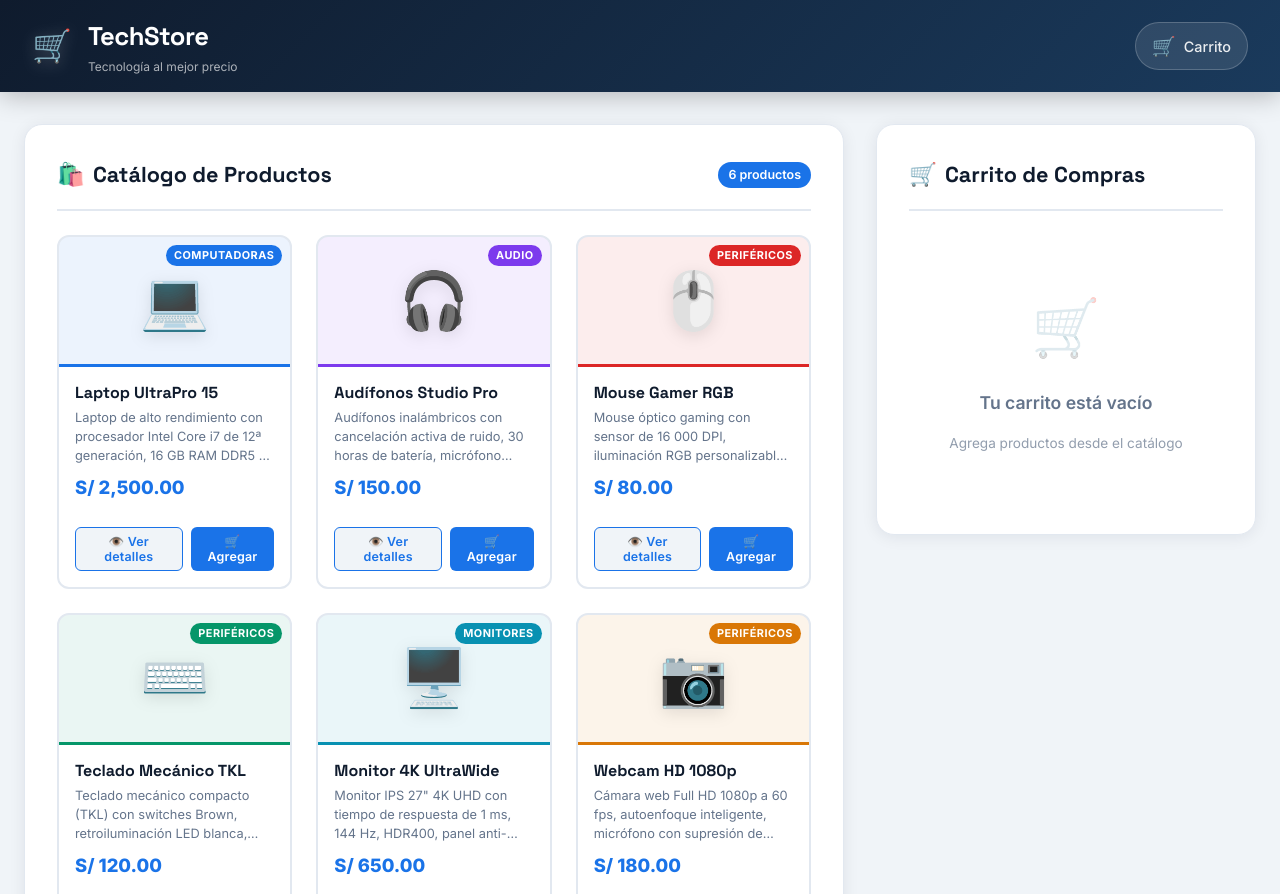
Prueba 8 — Limpiar carrito restablece estado inicial › al limpiar el carrito, vuelve al estado vacío
The width and height of the screenshot is (1280, 894).
What coordinates should you click on to do the following:
click the button "🛒 Agregar" below "S/ 2,500.00"
I would click on:
 (232, 549)
Its box is [191,527,274,571].
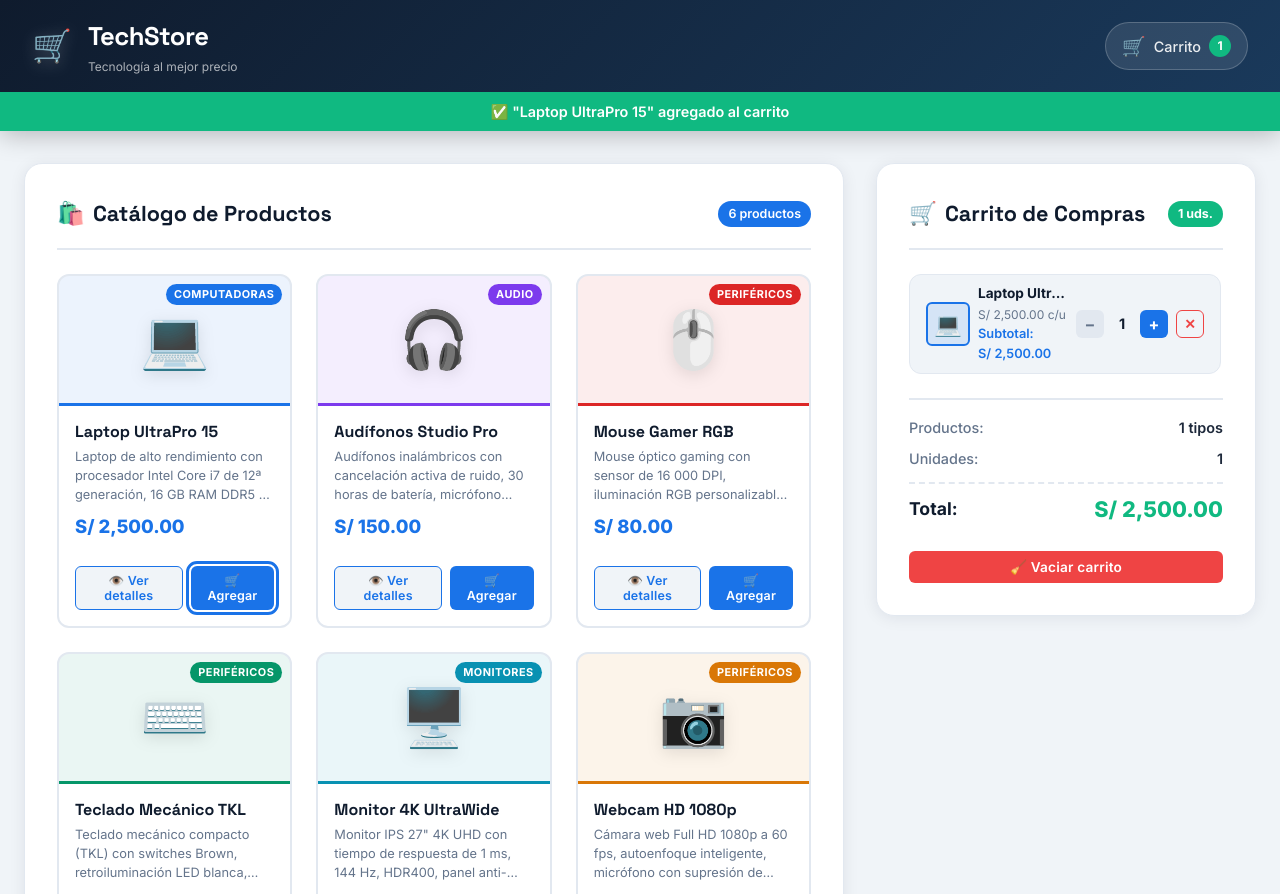
What coordinates should you click on to do the following:
click the button "🛒 Agregar" below "S/ 150.00"
I would click on:
 (492, 588)
Its box is [450,566,534,610].
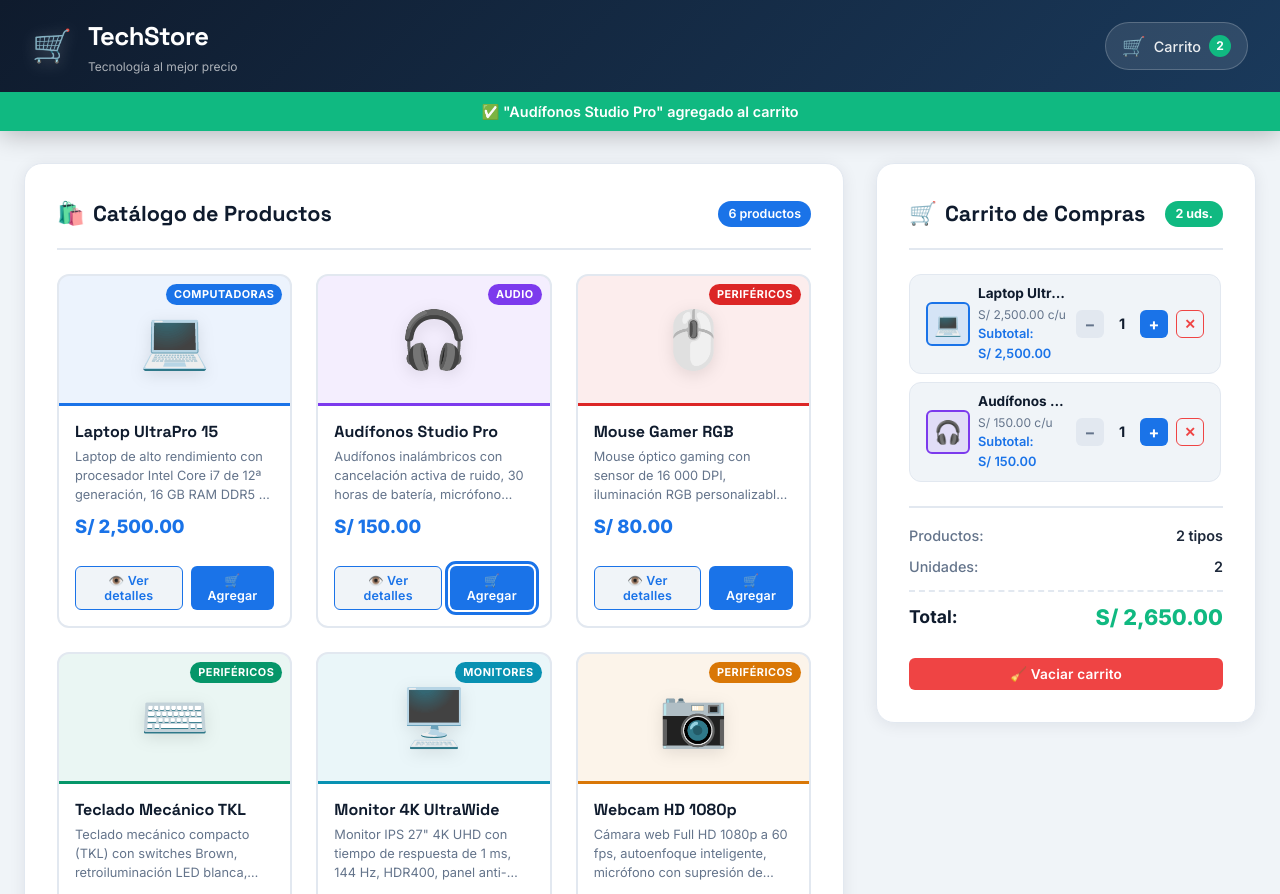
What coordinates should you click on to do the following:
click the button with test id "btn-clear-cart"
I would click on:
 (1066, 674)
Its box is [909,658,1223,690].
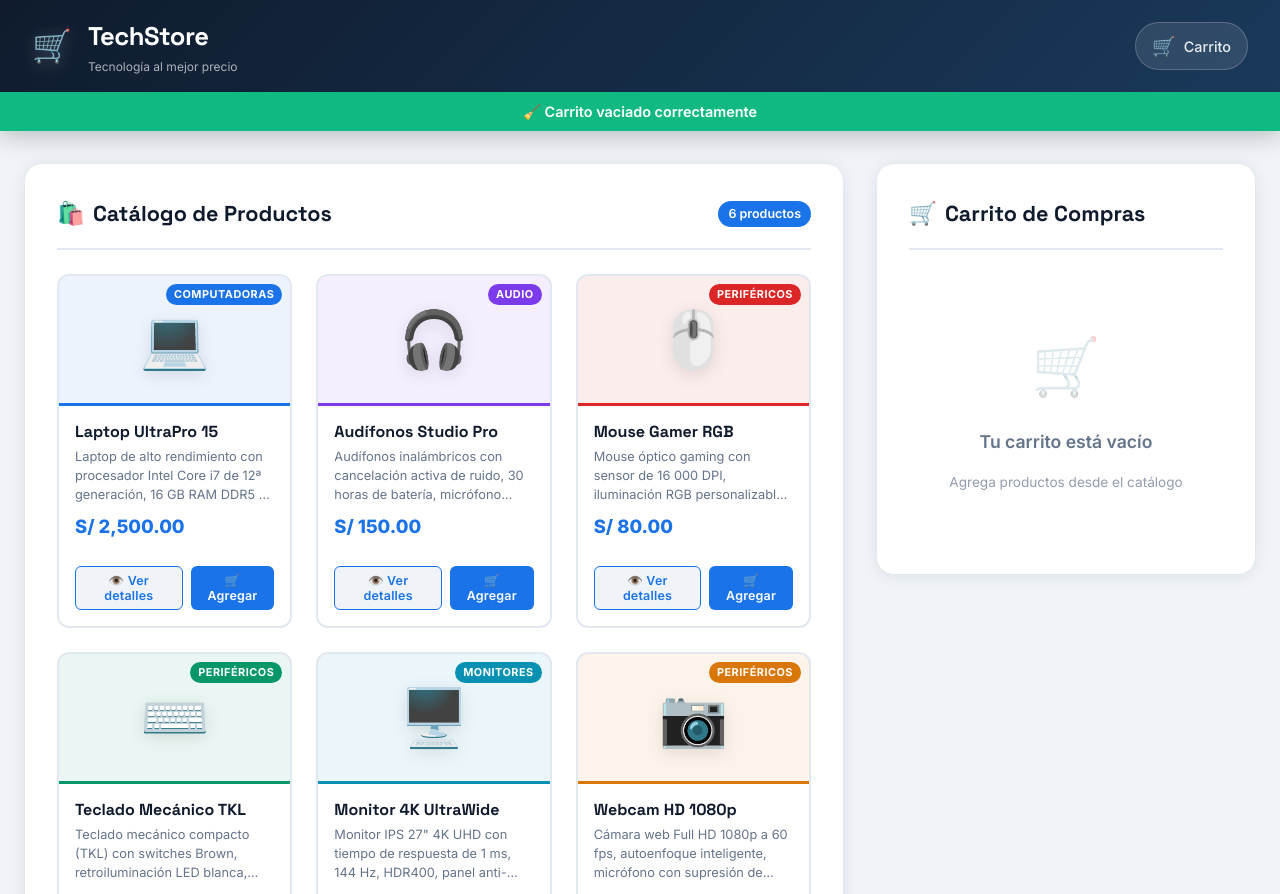
Check: the message "🛒 Tu carrito está vacío Agrega productos desde el catálogo" is shown, box [949,332,1183,490]
Check: the text with test id "total-amount" is gone
